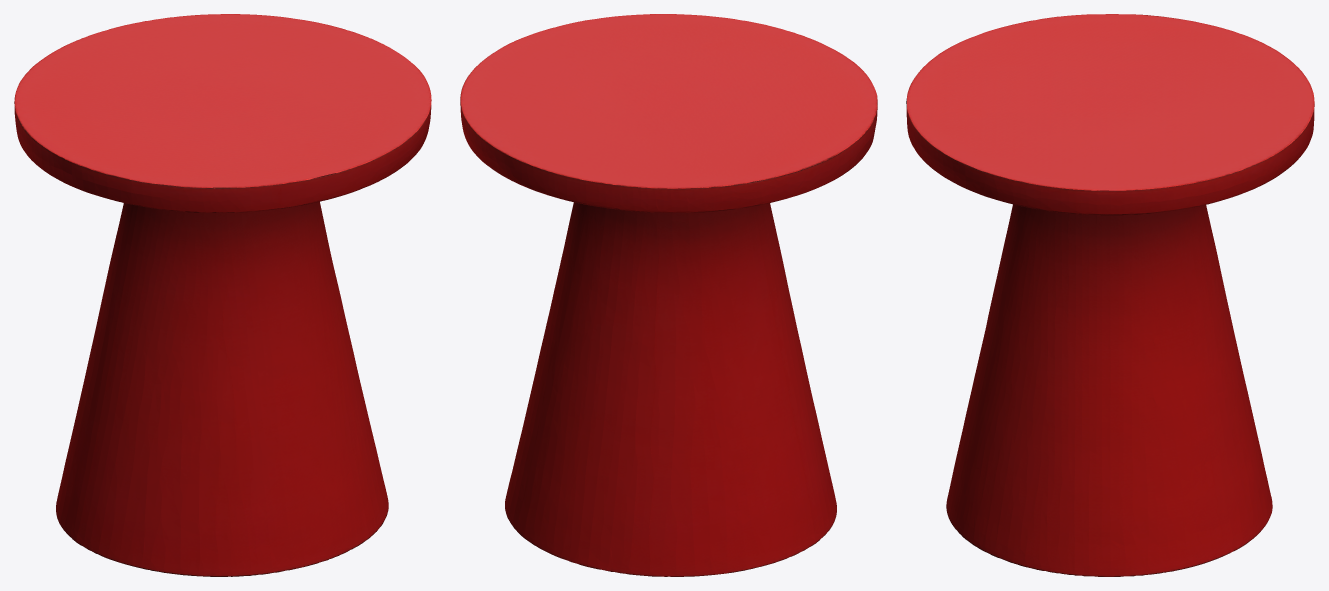
The model's file is HTU table.fbx.
3 views of the same model, side by side, from view 1: azimuth 30°, elevation 25°; view 2: azimuth 150°, elevation 25°; view 3: azimuth 270°, elevation 25° (orthographic).
Visible parts, largest first — view 1: world; view 2: world; view 3: world.
Part boxes in pixels (x1,y1,x2,y2): world: (14,14,431,576); world: (460,14,877,576); world: (906,14,1314,576).
Bounding box in the file's own units: 0.9352 × 1 × 0.9133.
Materials: 1 (1 with a texture image).
